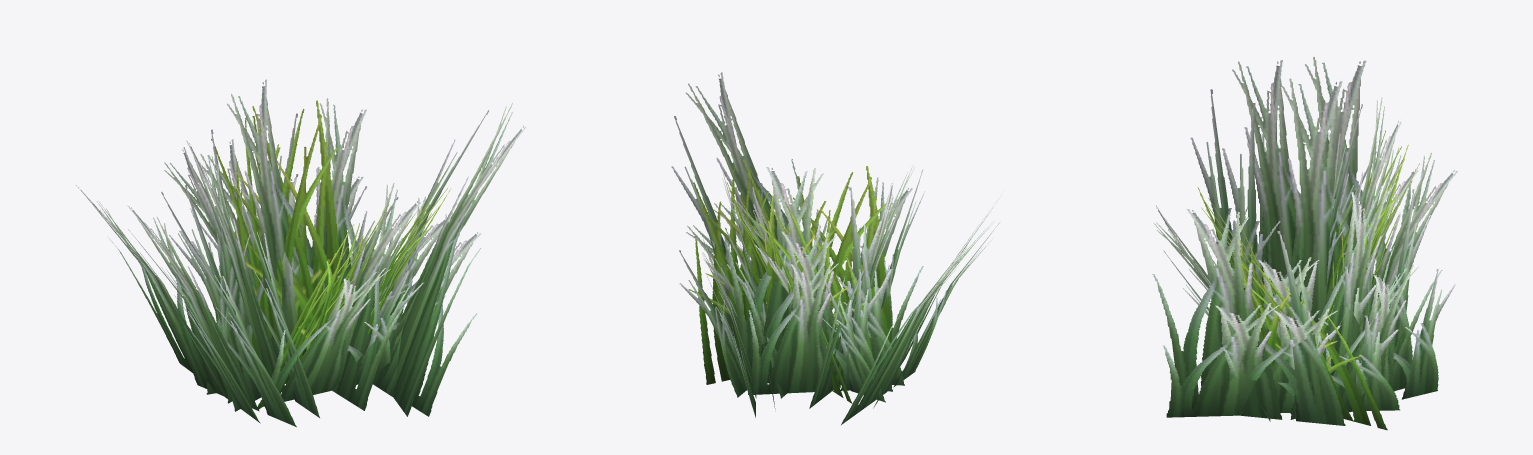
The model's file is Grass_Alpine_B.fbx.
The picture shows the model from 3 angles, left to right: view 1: azimuth 30°, elevation 25°; view 2: azimuth 150°, elevation 25°; view 3: azimuth 270°, elevation 25°; orthographic projection. The views are drawn at different scales.
Parts seen in each view (by area): view 1: Grass_Alpine_B_LOD0; view 2: Grass_Alpine_B_LOD0; view 3: Grass_Alpine_B_LOD0.
Part boxes in pixels (left/top/right/bottom): Grass_Alpine_B_LOD0: left=76, top=79, right=526, bottom=427; Grass_Alpine_B_LOD0: left=671, top=72, right=1002, bottom=424; Grass_Alpine_B_LOD0: left=1152, top=57, right=1457, bottom=430.
Size of what is drawn, in the model's own units: 0.7314 by 0.4761 by 0.6054.
